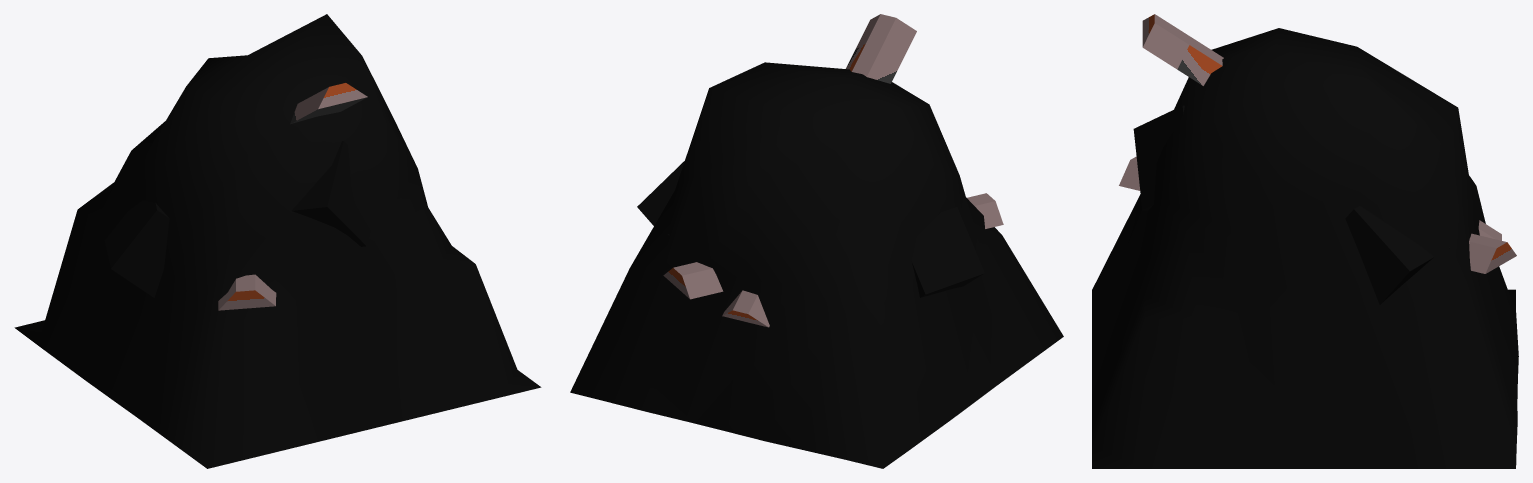
The model's file is Garbage.obj.
3 views of the same model, side by side, from view 1: azimuth 30°, elevation 25°; view 2: azimuth 150°, elevation 25°; view 3: azimuth 270°, elevation 25° (orthographic). The views are drawn at different scales.
Visible parts, largest first — view 1: Plane; view 2: Plane; view 3: Plane.
Boxes of the visible parts, x1,y1,x2,y2 form: Plane: (14, 14, 541, 468); Plane: (570, 14, 1063, 468); Plane: (1092, 14, 1518, 468).
Bounding box in the file's own units: 5.09 × 4.64 × 5.03.
